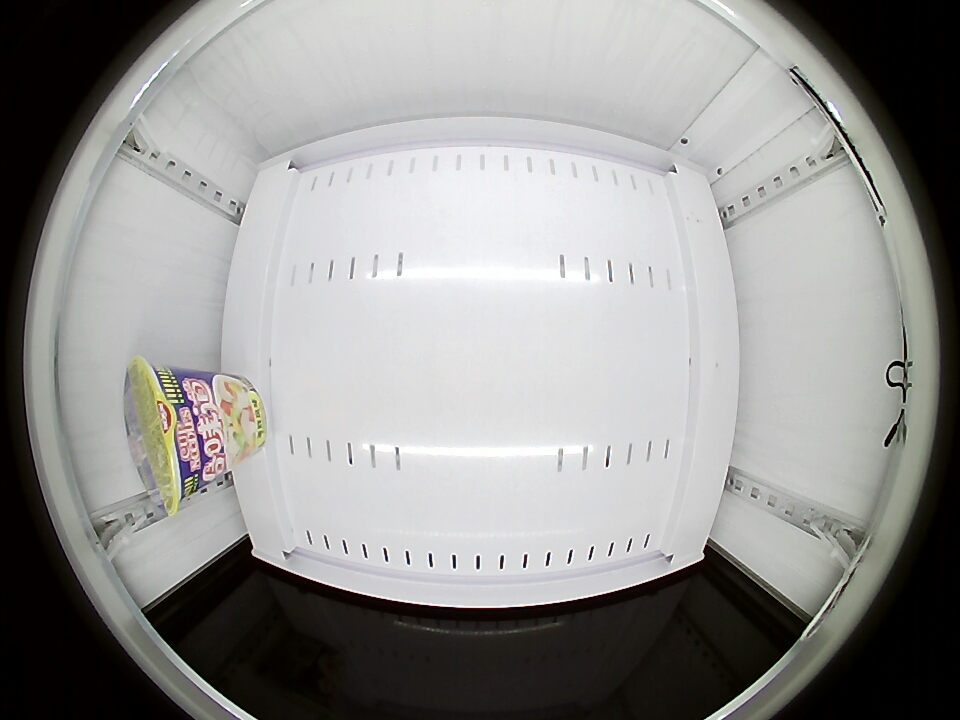heweidao: (123, 357, 205, 514)
